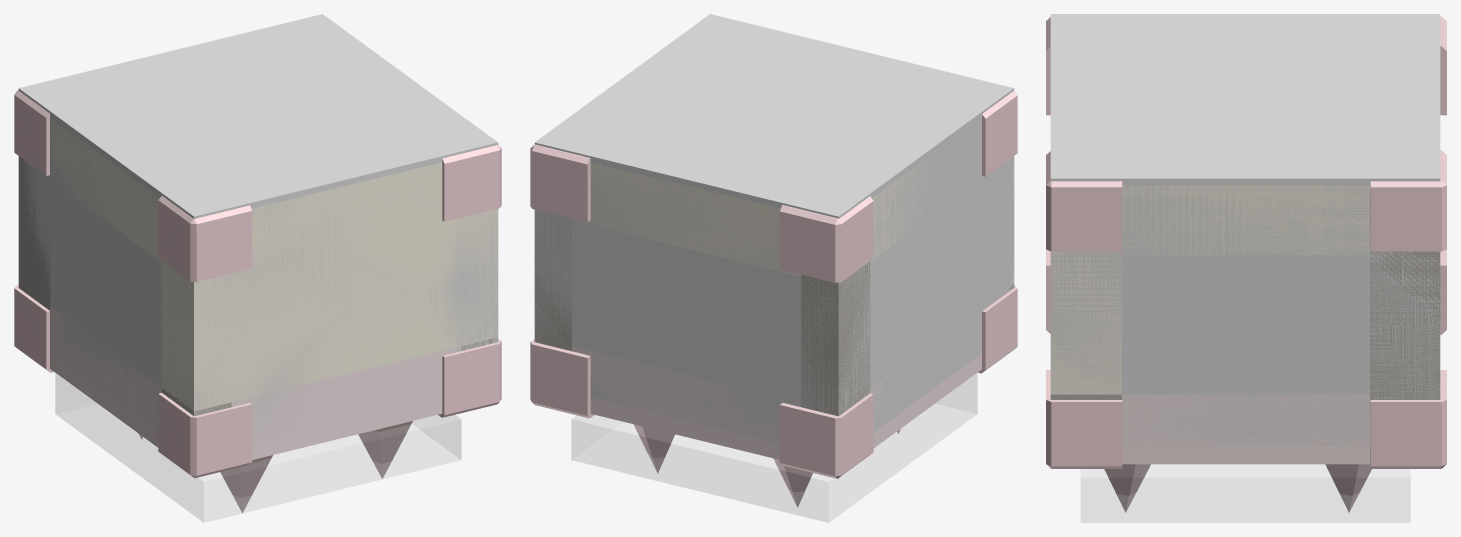
Rendered from Cubunglb.gltf.
3 renders of one model, left to right at view 1: azimuth 30°, elevation 25°; view 2: azimuth 150°, elevation 25°; view 3: azimuth 270°, elevation 25°, orthographic. The views are drawn at different scales.
Parts seen in each view (by area): view 1: 立方体, COL, COL_Attack; view 2: COL, 立方体, COL_Attack; view 3: COL, 立方体, COL_Attack.
Part boxes in pixels (x1=…): 立方体: x1=14, y1=90, x2=501, y2=512; COL: x1=18, y1=14, x2=498, y2=443; COL_Attack: x1=55, y1=373, x2=461, y2=522; COL: x1=534, y1=14, x2=1014, y2=443; 立方体: x1=530, y1=91, x2=1017, y2=507; COL_Attack: x1=571, y1=373, x2=977, y2=522; COL: x1=1050, y1=14, x2=1440, y2=446; 立方体: x1=1046, y1=16, x2=1446, y2=512; COL_Attack: x1=1081, y1=464, x2=1410, y2=522.
Size of the model in its own units: 8.99 by 9.43 by 9.04.
